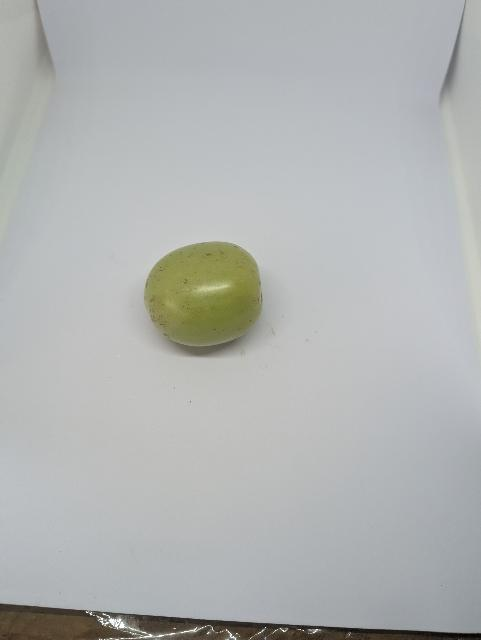green: (143, 240, 267, 351)
